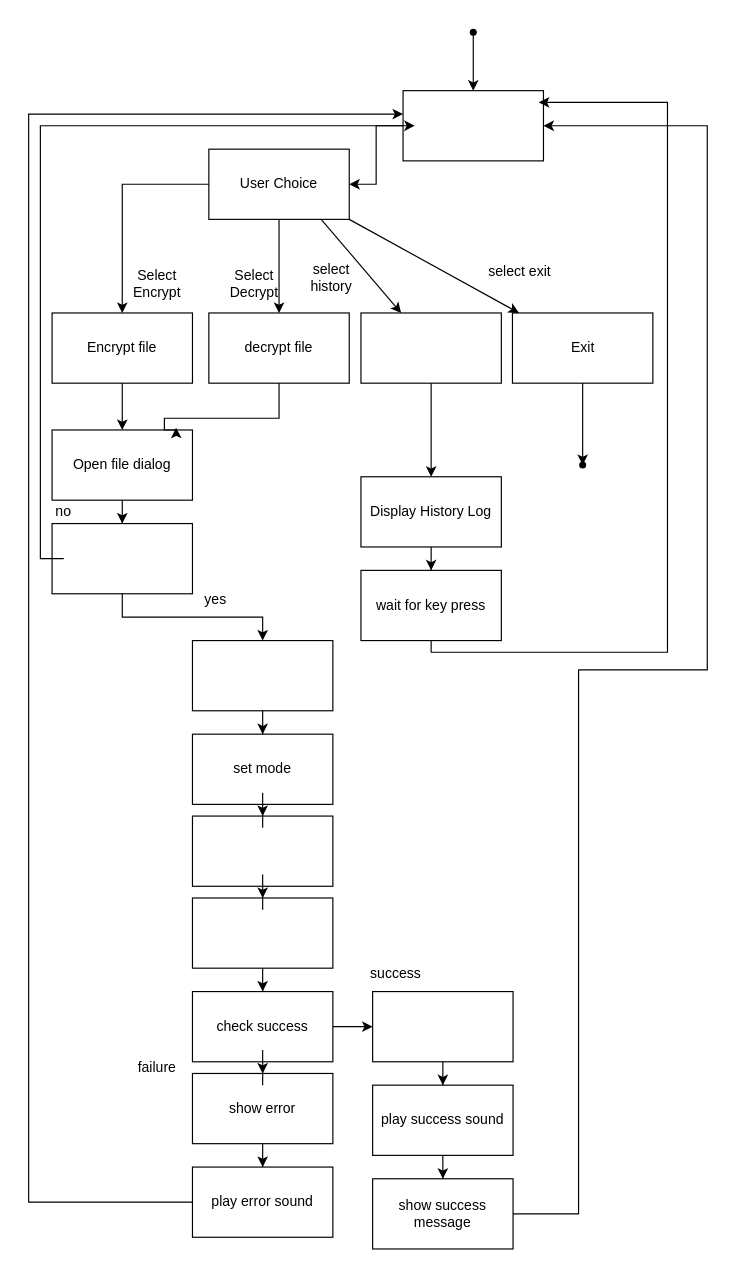
The diagram is 737 pixels wide and 1269 high, and some of its shapes have lost their labels. The centre of each missing label's shape, as x and y in pixels:
"file Selection check" goes at (121,558).
"log success" goes at (442,1026).
"process file" goes at (262,932).
"show history" goes at (430,347).
"show loading animation" goes at (262,850).
"Show Main Menu" goes at (472,125).
"show operation choice" goes at (262,675).
